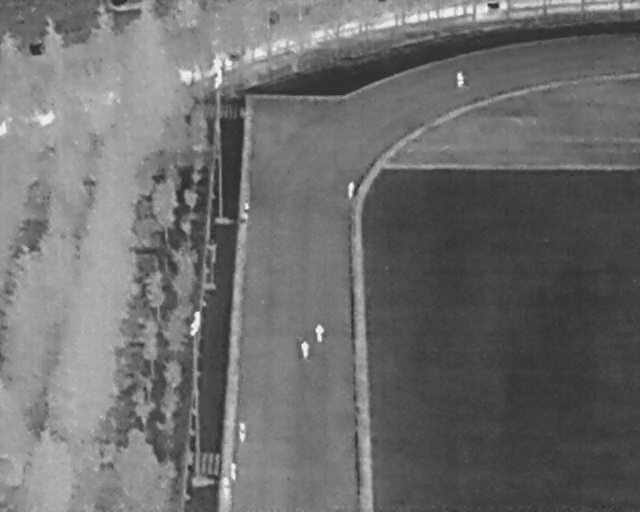Person: (315, 322, 324, 343), (222, 475, 231, 496), (238, 421, 246, 443), (301, 339, 309, 359), (230, 461, 238, 480), (456, 70, 464, 88), (348, 179, 355, 199), (243, 197, 250, 212)
